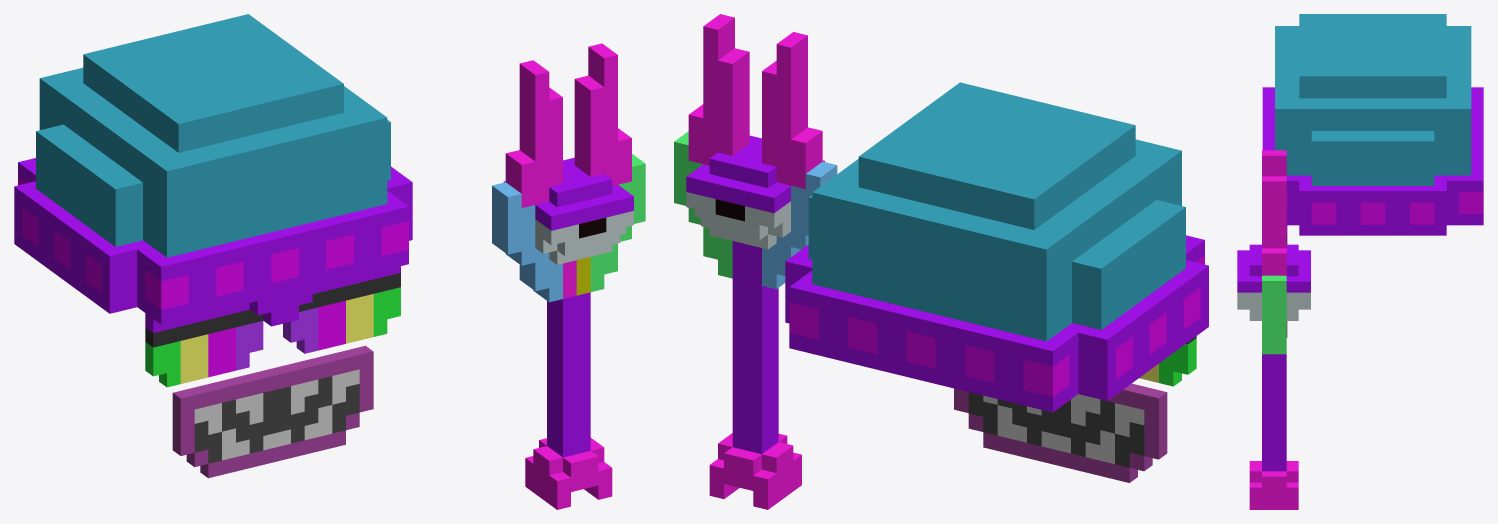
Rendered from 86- rofl tamer.fbx.
3 renders of one model, left to right at view 1: azimuth 30°, elevation 25°; view 2: azimuth 150°, elevation 25°; view 3: azimuth 270°, elevation 25°, orthographic. The views are drawn at different scales.
Parts seen in each view (by area): view 1: rofl_tamer005, rofl_tamer006, rofl_tamer009, rofl_tamer008, rofl_tamer002, rofl_tamer007, rofl_tamer001, rofl_tamer004, rofl_tamer, rofl_tamer003; view 2: rofl_tamer005, rofl_tamer006, rofl_tamer009, rofl_tamer002, rofl_tamer008, rofl_tamer004, rofl_tamer, rofl_tamer003, rofl_tamer007; view 3: rofl_tamer005, rofl_tamer006, rofl_tamer009, rofl_tamer002, rofl_tamer004, rofl_tamer003.
Part boxes in pixels (x1,y1,x2,y2): rofl_tamer005: (36, 14, 390, 257); rofl_tamer006: (14, 158, 412, 326); rofl_tamer009: (492, 43, 645, 509); rofl_tamer008: (172, 345, 373, 478); rofl_tamer002: (503, 157, 633, 457); rofl_tamer007: (145, 287, 400, 387); rofl_tamer001: (145, 266, 400, 370); rofl_tamer004: (18, 177, 408, 309); rofl_tamer: (194, 376, 359, 463); rofl_tamer003: (535, 211, 633, 264); rofl_tamer005: (808, 82, 1185, 341); rofl_tamer006: (785, 235, 1208, 412); rofl_tamer009: (674, 14, 837, 509); rofl_tamer002: (686, 135, 824, 454); rofl_tamer008: (954, 383, 1167, 482); rofl_tamer004: (789, 255, 1204, 397); rofl_tamer: (968, 392, 1144, 467); rofl_tamer003: (686, 192, 790, 249); rofl_tamer007: (1139, 338, 1196, 386); rofl_tamer005: (1275, 14, 1471, 185); rofl_tamer006: (1262, 87, 1483, 235); rofl_tamer009: (1249, 150, 1298, 509); rofl_tamer002: (1237, 244, 1310, 471); rofl_tamer004: (1286, 192, 1483, 224); rofl_tamer003: (1237, 292, 1310, 320).
Bounding box in the file's own units: 371 × 310 × 201.
10 materials, 10 textured.
